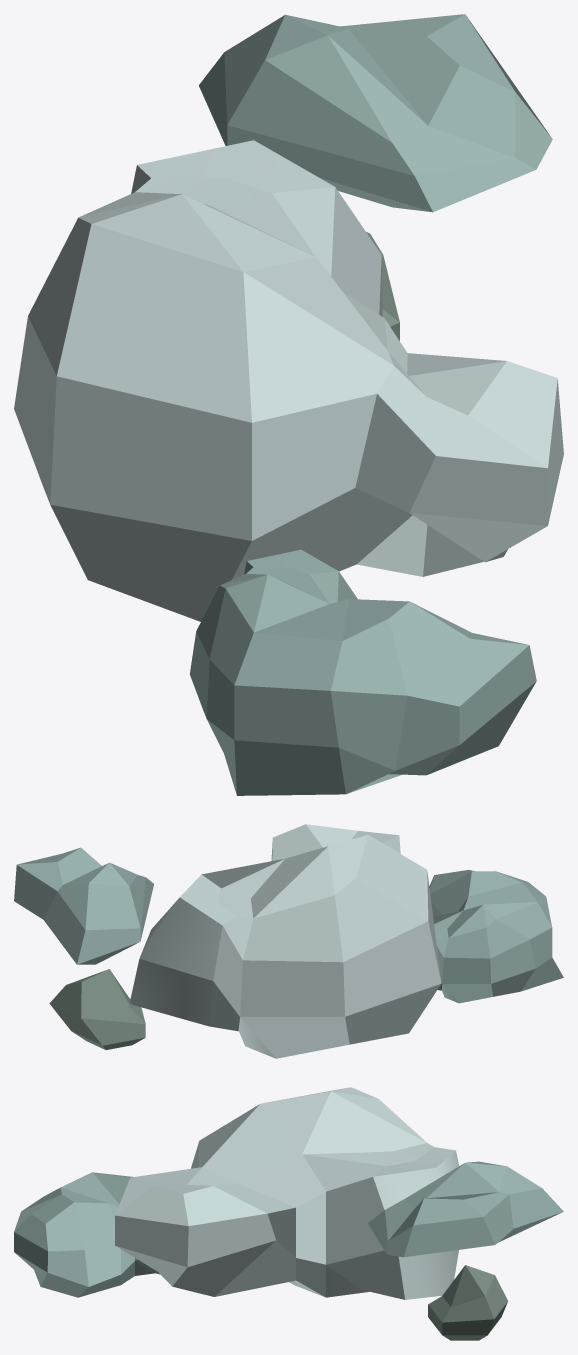
Rendered from bg_clouds.fbx.
3 views of the same model, one above another, from view 1: azimuth 30°, elevation 25°; view 2: azimuth 150°, elevation 25°; view 3: azimuth 270°, elevation 25° (orthographic). The views are drawn at different scales.
Parts seen in each view (by area): view 1: pSphere1, pSphere4, pSphere3; view 2: pSphere1, pSphere4, pSphere3, pSphere2; view 3: pSphere1, pSphere3, pSphere4, pSphere2.
Part boxes in pixels (box(x1,y1,x2,y2)): pSphere1: box(14, 140, 563, 621); pSphere4: box(189, 549, 536, 795); pSphere3: box(199, 14, 552, 212); pSphere1: box(130, 824, 441, 1058); pSphere4: box(429, 870, 563, 1003); pSphere3: box(14, 847, 153, 964); pSphere2: box(49, 969, 145, 1049); pSphere1: box(115, 1087, 458, 1299); pSphere3: box(368, 1161, 563, 1257); pSphere4: box(14, 1172, 159, 1297); pSphere2: box(428, 1265, 507, 1340).
Size of the model in its own units: 3.45 by 2.1 by 5.01.
